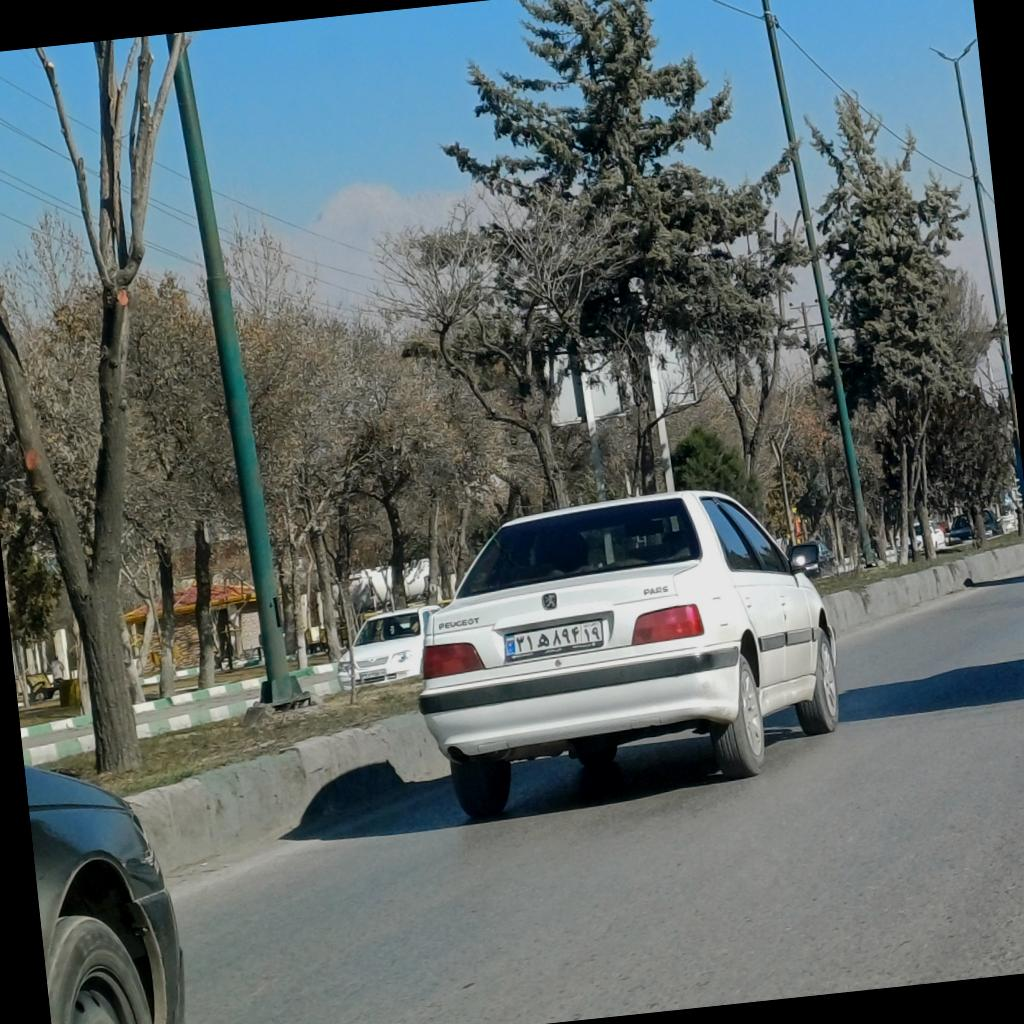Plates: (504, 619, 602, 656)
